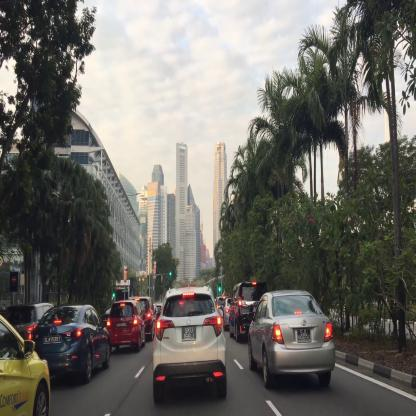green_traffic_light: (218, 283, 221, 291), (113, 288, 115, 297), (169, 272, 174, 275)
